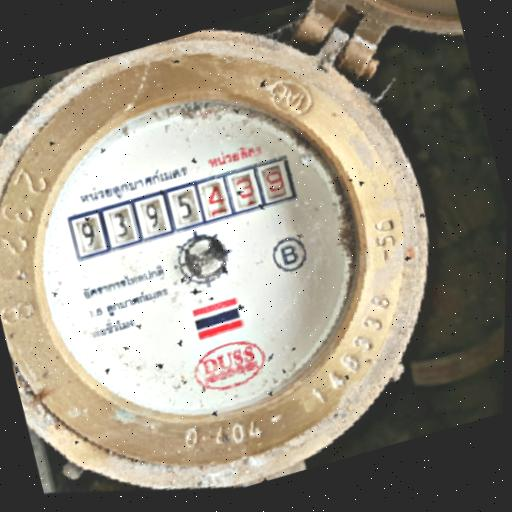3: (230, 171, 258, 210), (107, 207, 136, 244)
4: (201, 180, 229, 219)
5: (172, 189, 199, 226)
9: (140, 198, 168, 235), (76, 217, 103, 253), (260, 165, 288, 199)
border_water_meter_number: (66, 153, 298, 261)
